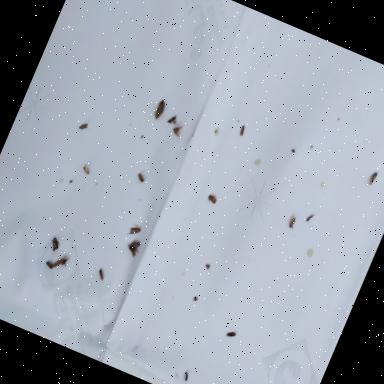pbw: (152, 98, 167, 122), (52, 254, 68, 272), (126, 222, 142, 238), (124, 242, 140, 258), (48, 236, 62, 252), (166, 113, 180, 128), (170, 124, 184, 138), (94, 268, 107, 282), (136, 172, 148, 184), (368, 172, 377, 186), (207, 193, 218, 204), (78, 120, 88, 132), (306, 210, 315, 222), (81, 164, 91, 174), (225, 330, 236, 339), (238, 124, 246, 136), (288, 216, 296, 228), (44, 260, 54, 268), (130, 240, 140, 248)
